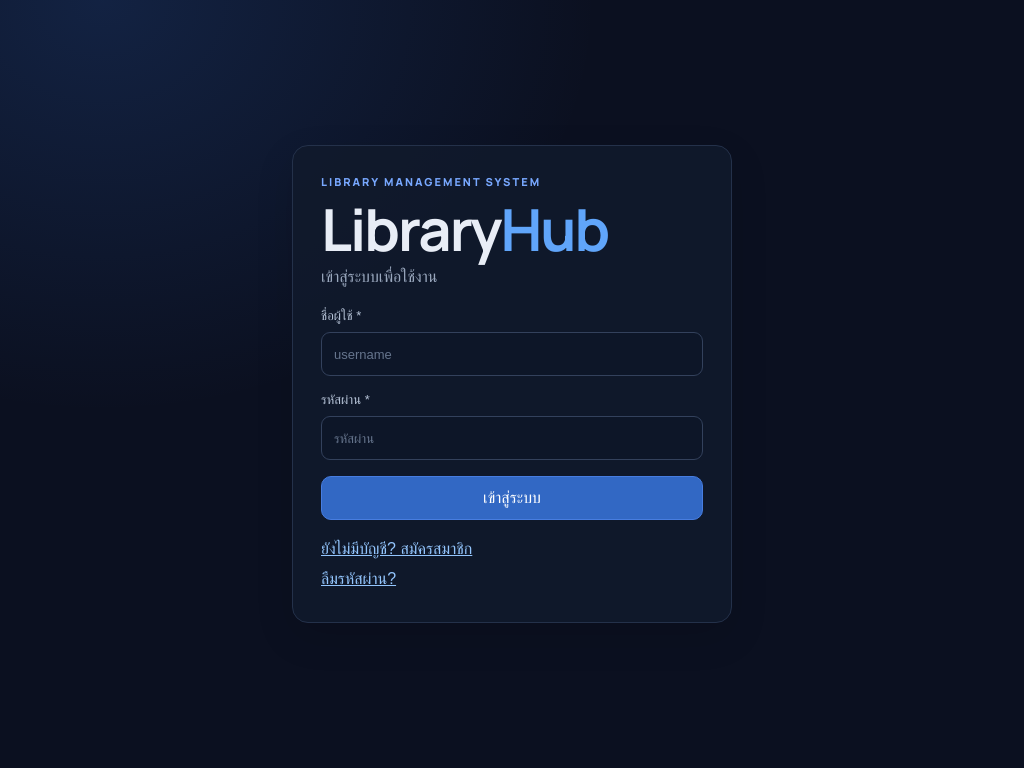
Scenario: Login › สมัครสมาชิก: ตรวจรหัสผ่านสั้นก่อนส่ง API
The width and height of the screenshot is (1024, 768).
Click the button "ยังไม่มีบัญชี? สมัครสมาชิก": (397, 549) top-left (321, 534), bottom-right (472, 564)
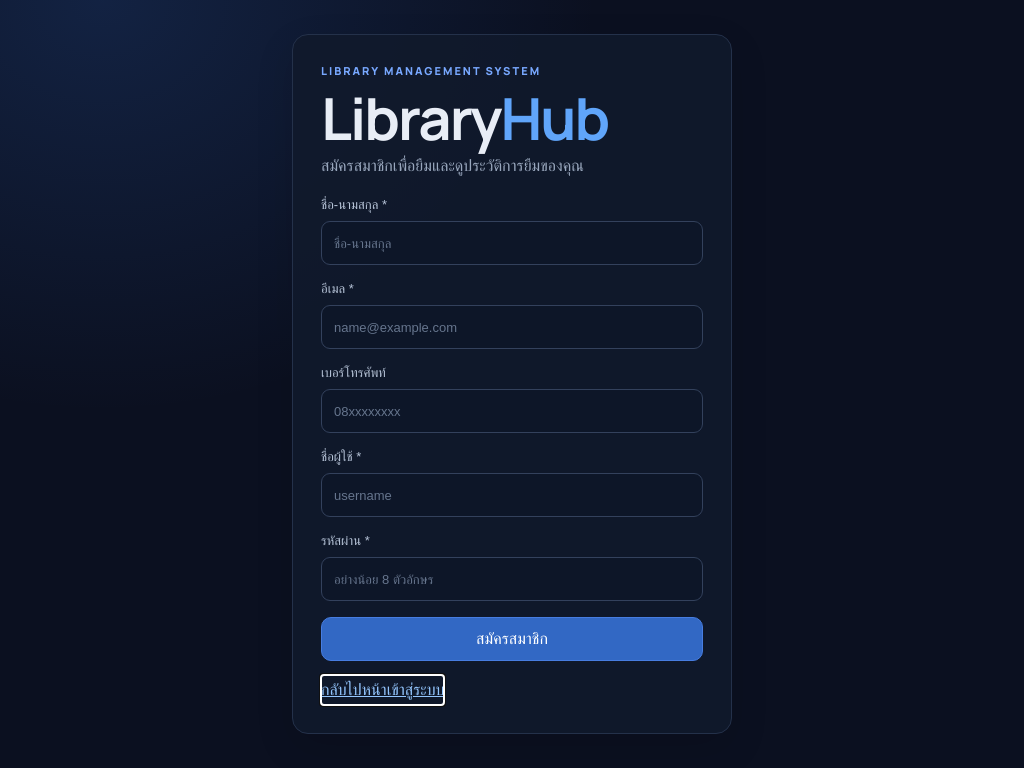
In the field with placeholder "ชื่อ-นามสกุล": (512, 243) top-left (321, 221), bottom-right (703, 265), type "สมชาย ใจดี"
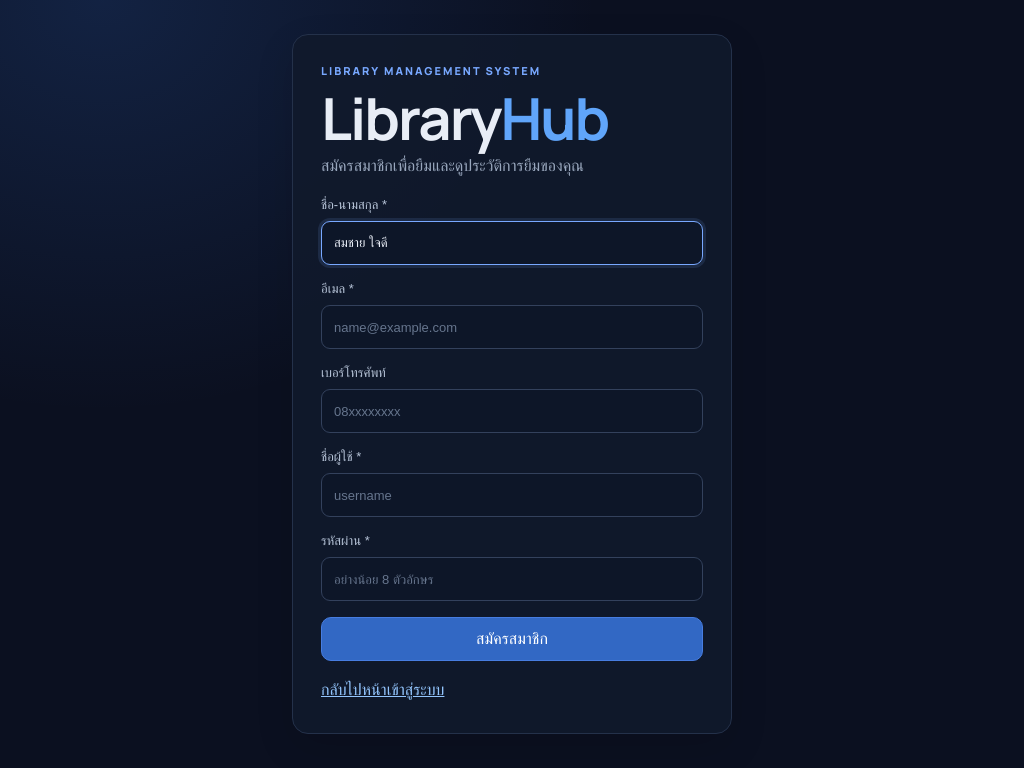
In the field with placeholder "name@example.com": (512, 327) top-left (321, 305), bottom-right (703, 349), type "a@b.co"
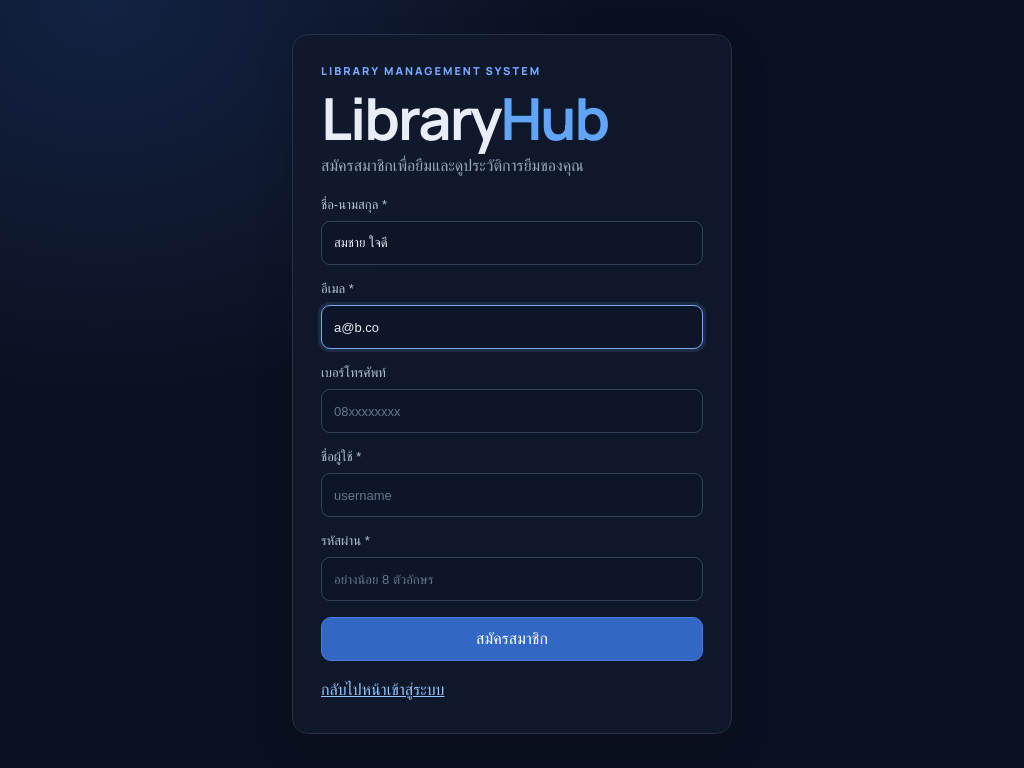
In the field with placeholder "username": (512, 495) top-left (321, 473), bottom-right (703, 517), type "somchai"
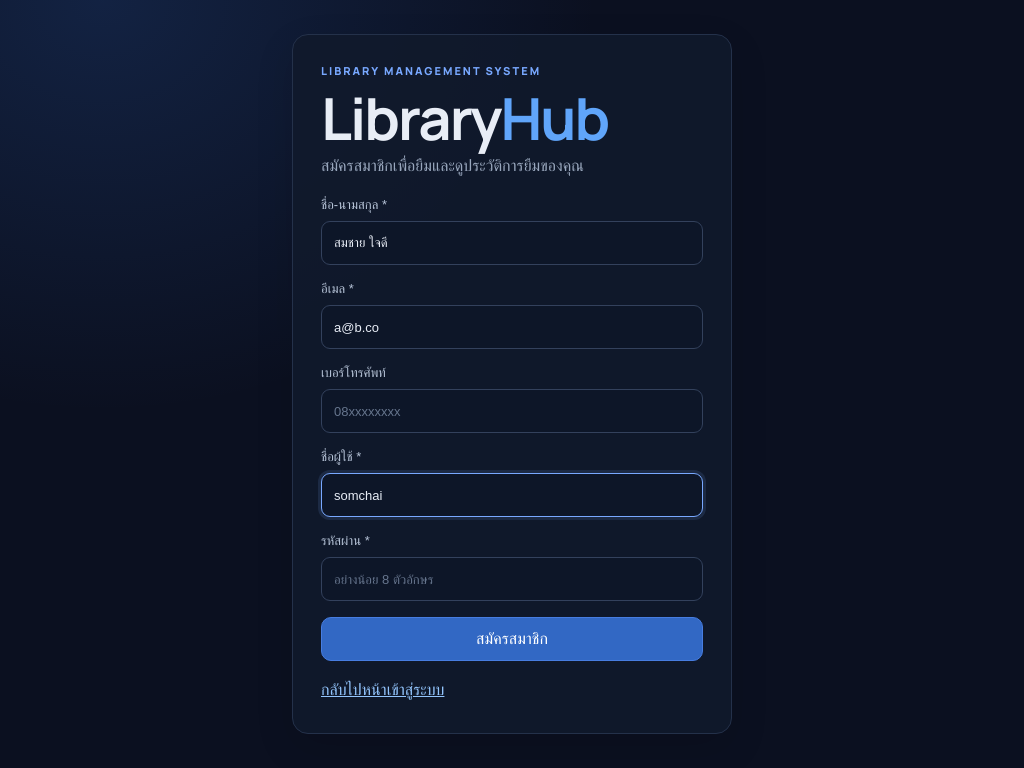
In the password field with placeholder "อย่างน้อย 8 ตัวอักษร": (512, 579) top-left (321, 557), bottom-right (703, 601), type "short"
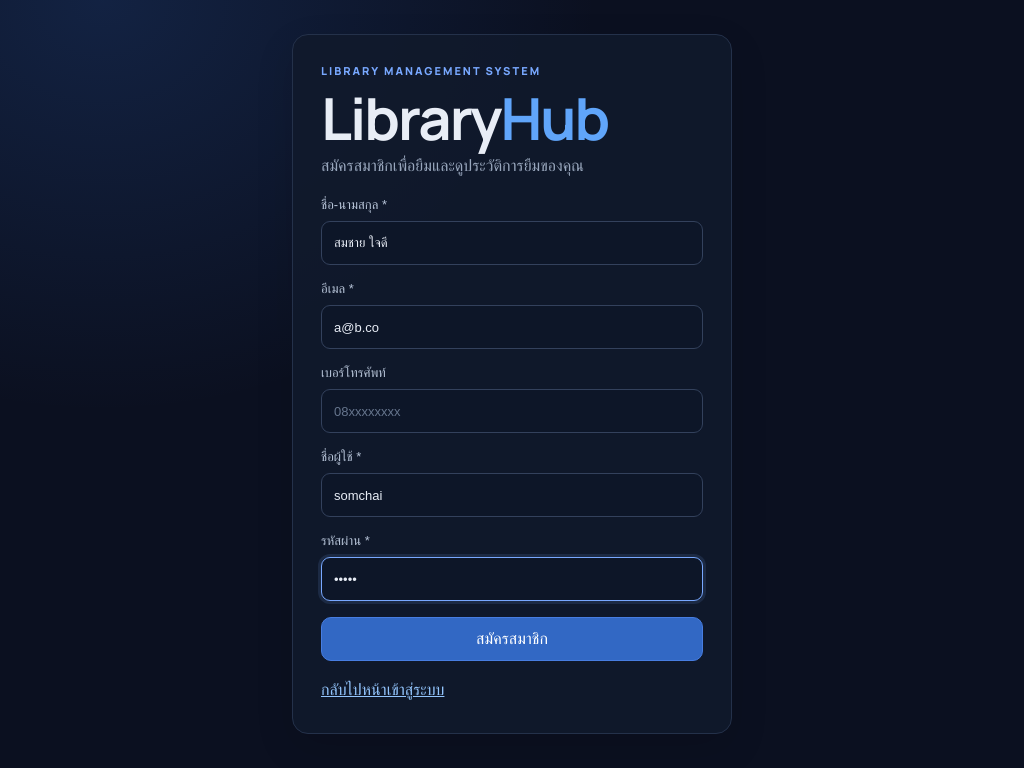
Click the button "สมัครสมาชิก": (512, 639) top-left (321, 617), bottom-right (703, 661)
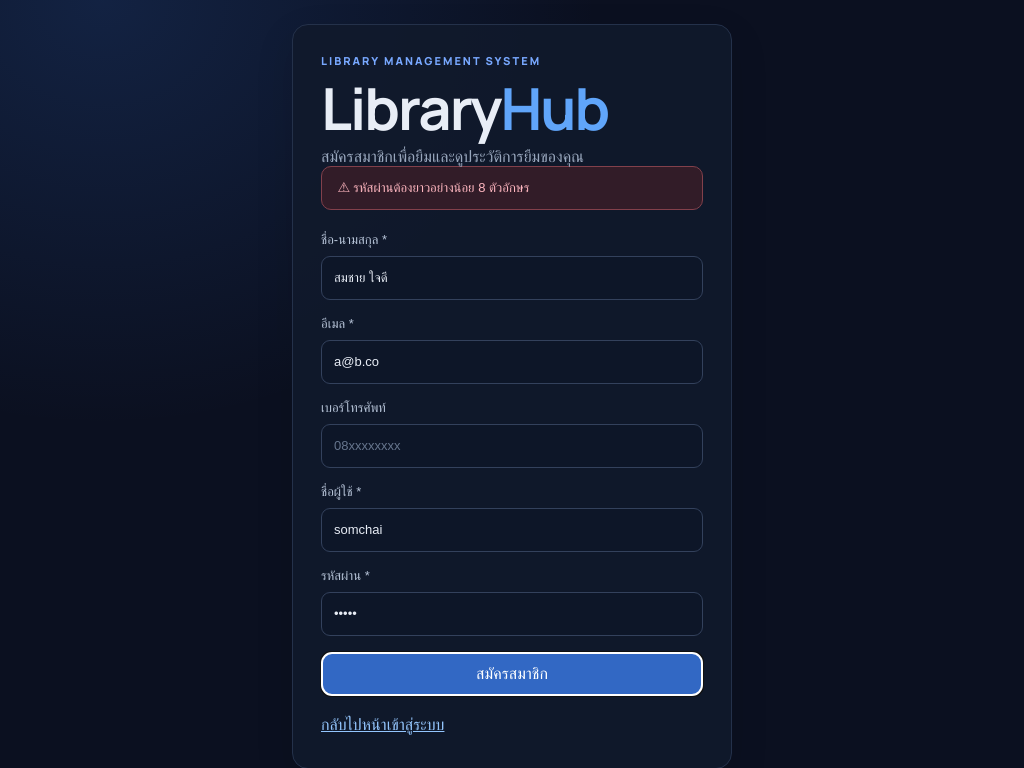
Expected: the message shows "อย่างน้อย 8", top-left (353, 180), bottom-right (530, 195)
